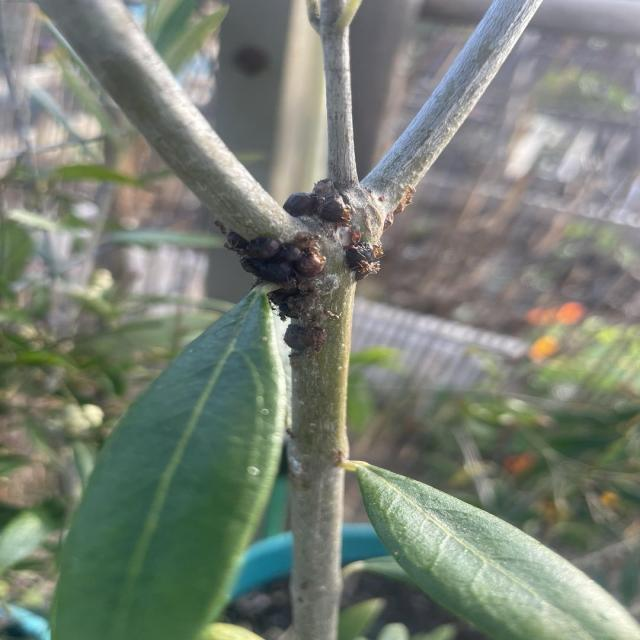BlackScale: (216, 222, 326, 354), (283, 178, 354, 226), (346, 240, 382, 281)
